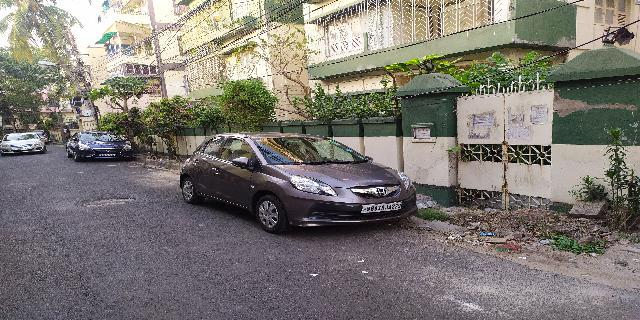Car: (176, 131, 420, 235), (62, 127, 133, 164), (1, 129, 48, 154)
